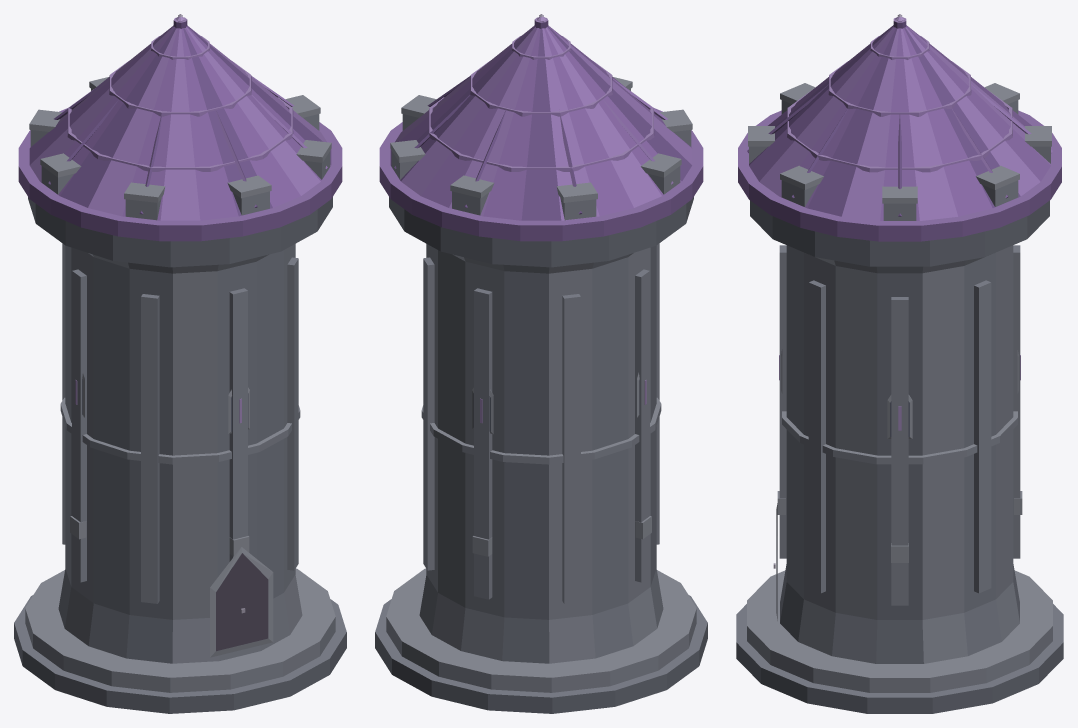
Rendered from castle-a.glb.
3 views of the same model, side by side, from view 1: azimuth 30°, elevation 25°; view 2: azimuth 150°, elevation 25°; view 3: azimuth 270°, elevation 25° (orthographic).
Visible parts, largest first — view 1: Darkstone Violet Tower Castle; view 2: Darkstone Violet Tower Castle; view 3: Darkstone Violet Tower Castle.
Boxes of the visible parts, <box> form: Darkstone Violet Tower Castle: <box>14,14,346,713</box>; Darkstone Violet Tower Castle: <box>375,14,707,713</box>; Darkstone Violet Tower Castle: <box>736,14,1063,713</box>.
Bounding box in the file's own units: 0.4708 × 1 × 0.4708.
